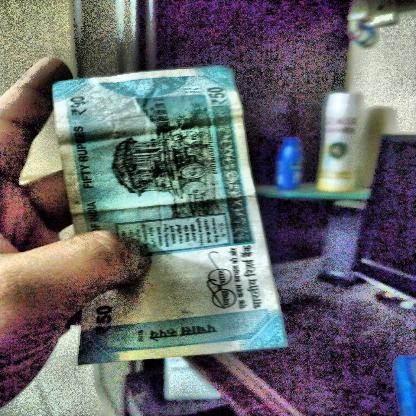Rs50: (89, 301, 119, 336), (202, 86, 230, 109)
